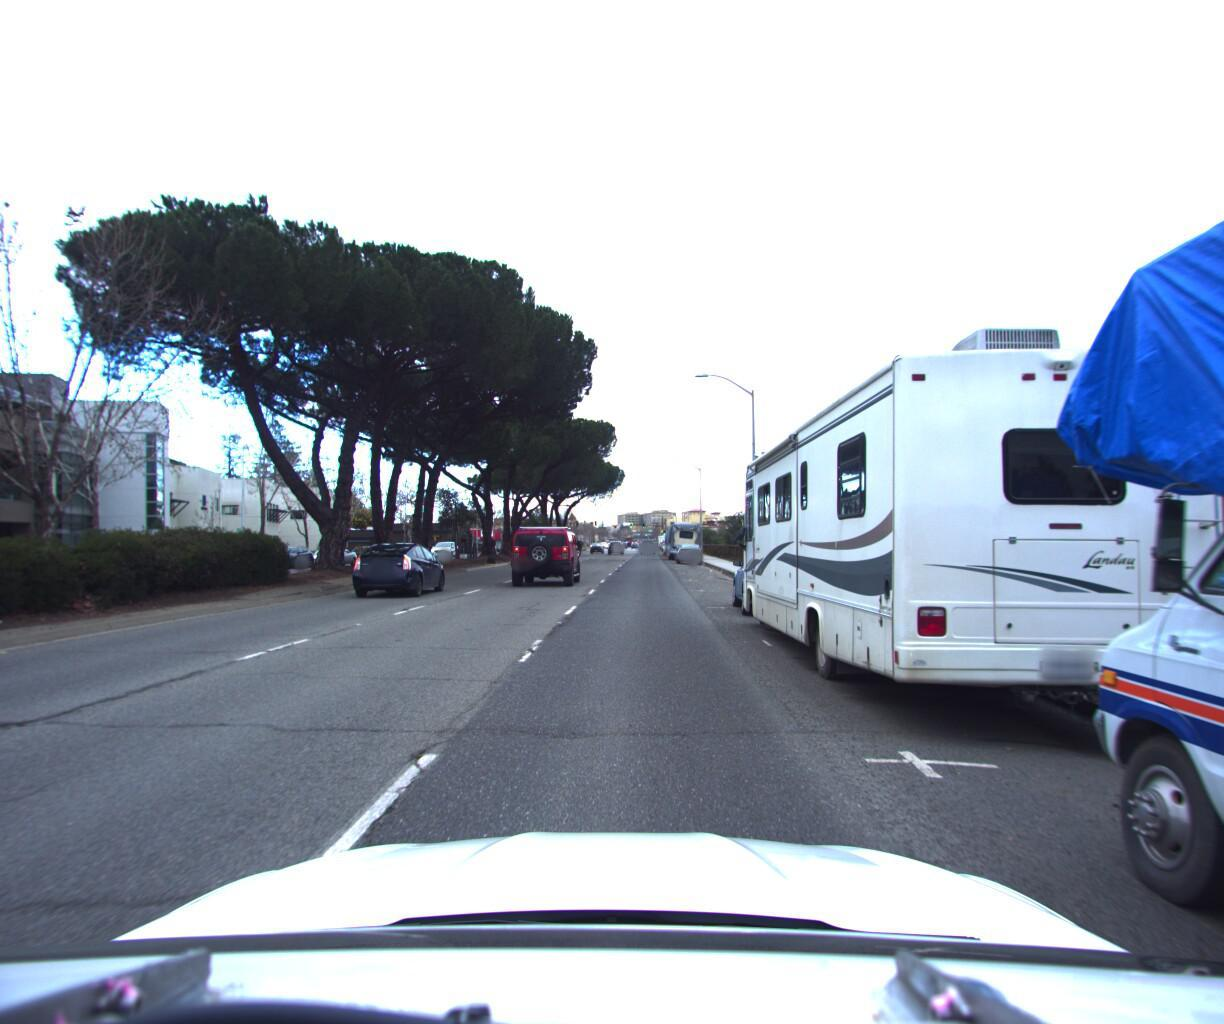car: (726, 537, 839, 623), (353, 538, 447, 599), (512, 521, 585, 583), (428, 533, 460, 554), (675, 536, 700, 559)
other_vehicle: (735, 340, 1224, 751), (665, 516, 696, 552)
